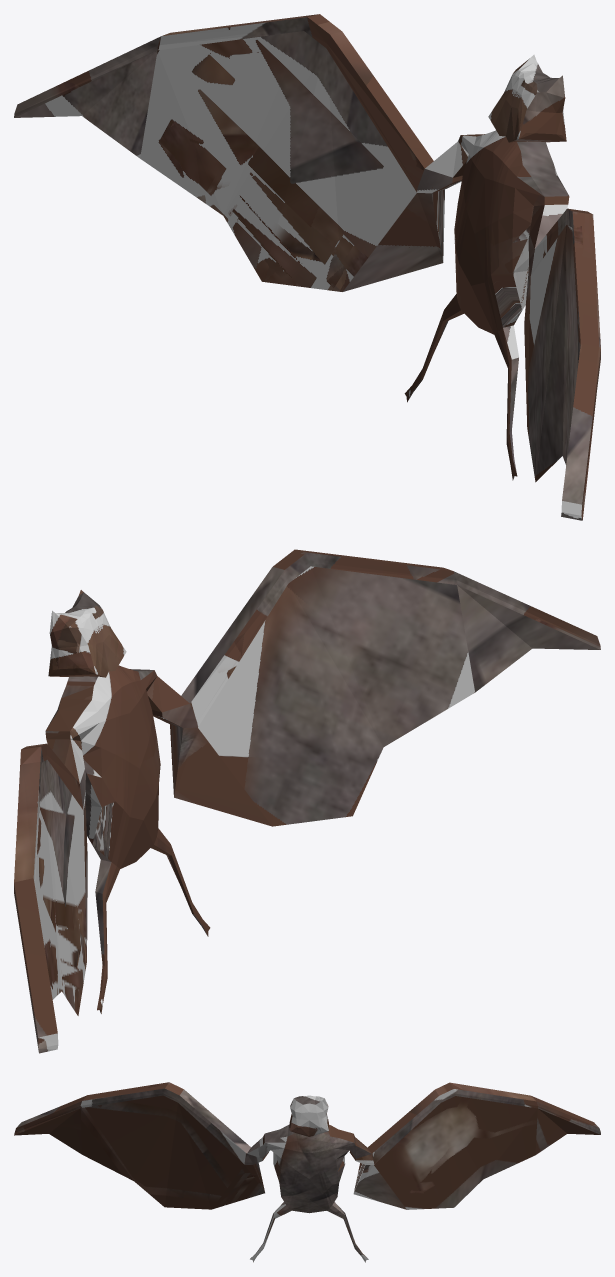
File: Enemigo16.obj
The picture shows the model from 3 angles, top to bottom: view 1: azimuth 30°, elevation 25°; view 2: azimuth 150°, elevation 25°; view 3: azimuth 270°, elevation 25°; orthographic projection. The views are drawn at different scales.
Parts seen in each view (by area): view 1: Plano; view 2: Plano; view 3: Plano.
Part boxes in pixels (x1,y1,x2,y2): Plano: (14,14,600,520); Plano: (14,549,600,1053); Plano: (14,1082,600,1262).
Bounding box in the file's own units: 0.5779 × 0.7353 × 2.09.
1 material, 1 textured.
